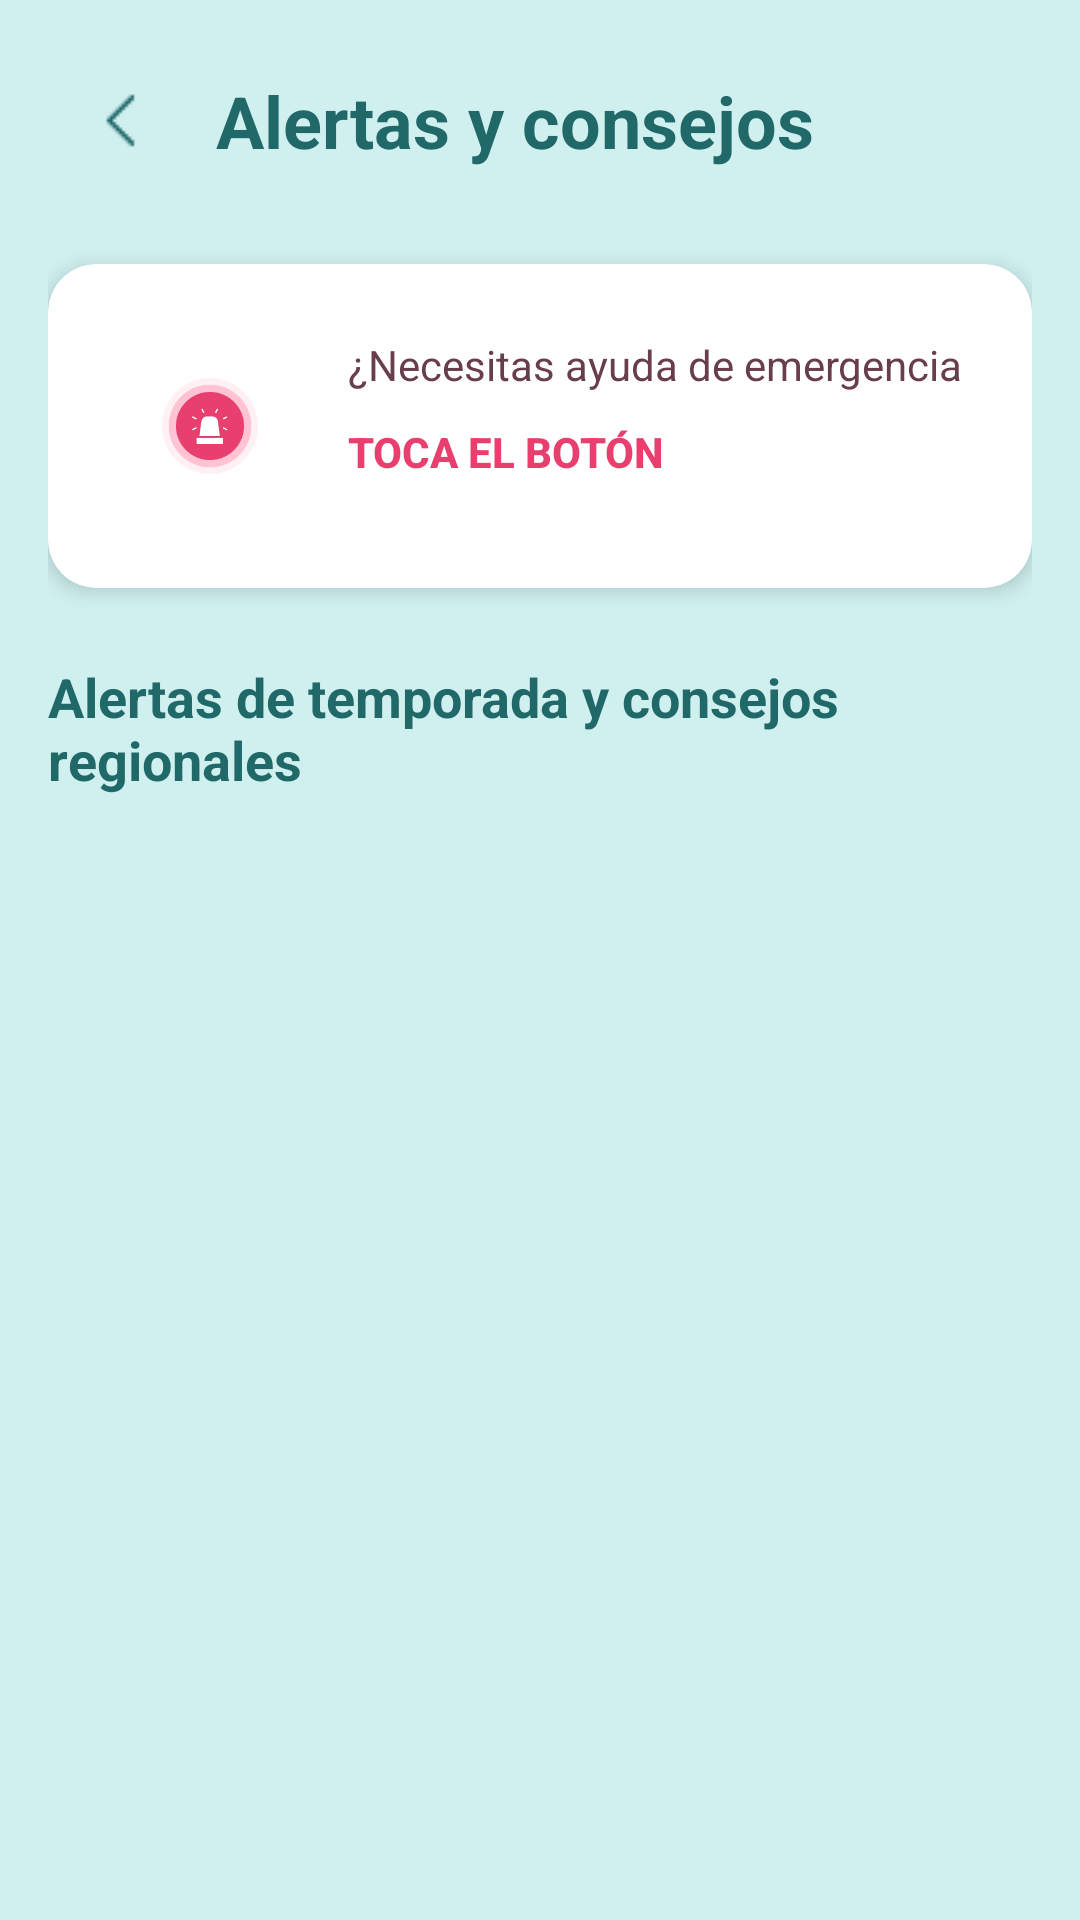

Icons on this 1080px×1920px Android screen, each with the point to tap as (x,y):
Atrás: (120,120)
Icono de sirena de emergencia: (210,426)
